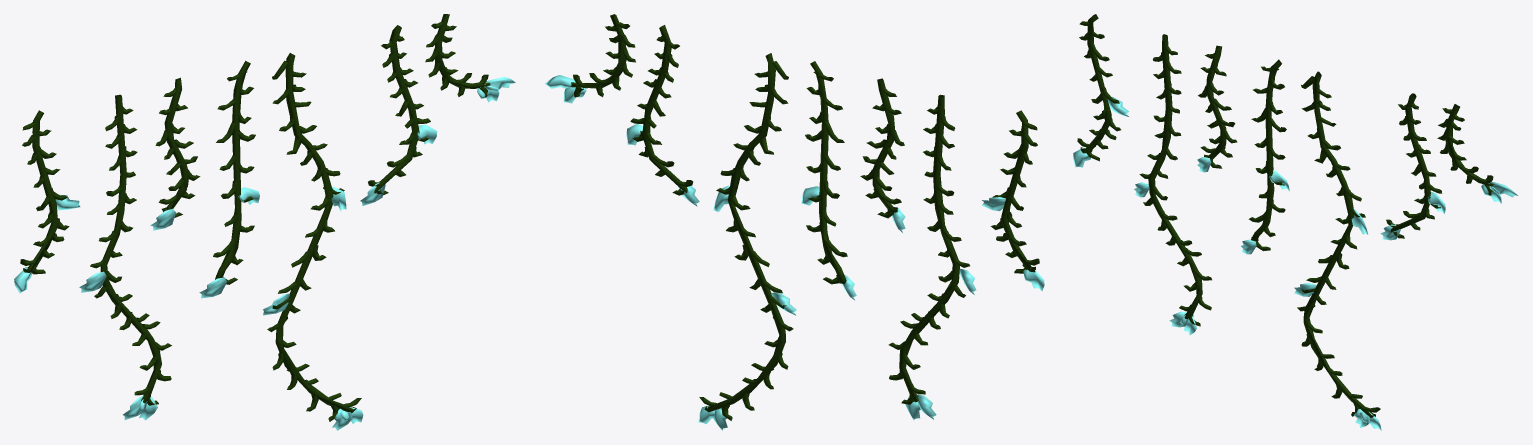
File: PlantaA.fbx
3 views of the same model, side by side, from view 1: azimuth 30°, elevation 25°; view 2: azimuth 150°, elevation 25°; view 3: azimuth 330°, elevation 25° (orthographic). The views are drawn at different scales.
Parts seen in each view (by area): view 1: FolhasCipo2, Cipo2, Folhas2; view 2: FolhasCipo2, Cipo2, Folhas2; view 3: FolhasCipo2, Cipo2, Folhas2.
Boxes of the visible parts, x1,y1,x2,y2 form: FolhasCipo2: (20,22,488,421); Cipo2: (23,14,490,413); Folhas2: (14,77,515,430); FolhasCipo2: (573,22,1039,420); Cipo2: (571,14,1035,412); Folhas2: (545,75,1044,430); FolhasCipo2: (1077,21,1493,416); Cipo2: (1080,14,1493,417); Folhas2: (1073,97,1517,430).
Bounding box in the file's own units: 213 × 160 × 3.89.
